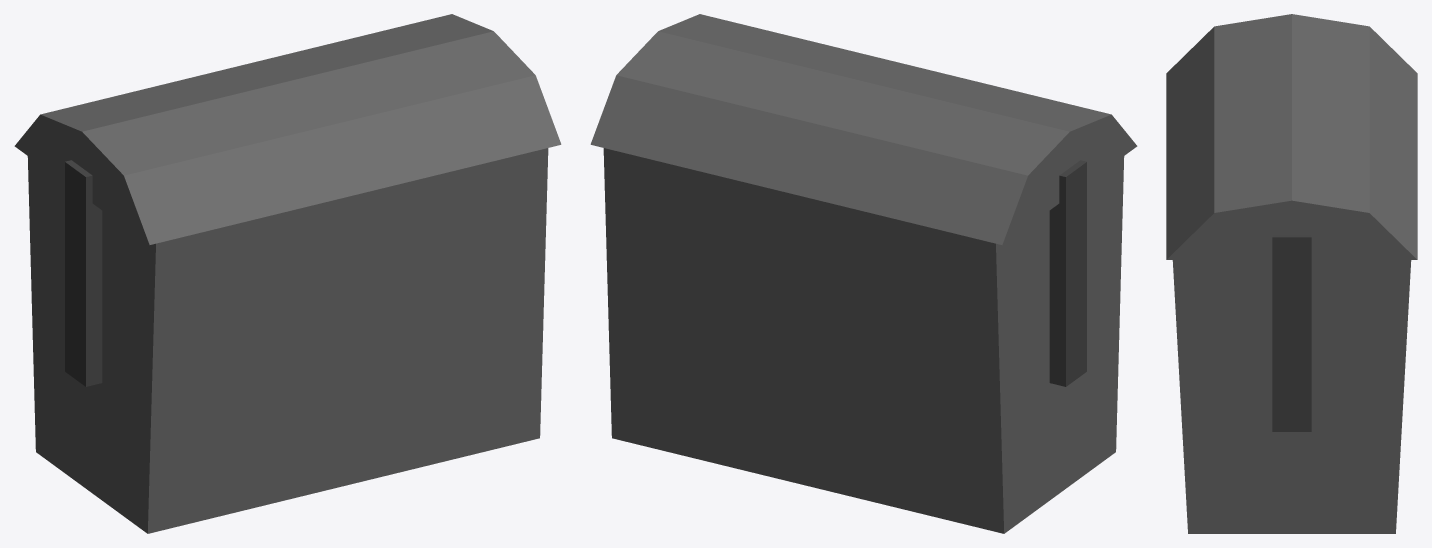
File: trash_004.fbx
The picture shows the model from 3 angles, left to right: view 1: azimuth 30°, elevation 25°; view 2: azimuth 150°, elevation 25°; view 3: azimuth 270°, elevation 25°; orthographic projection. The views are drawn at different scales.
Visible parts, largest first — view 1: trash_004; view 2: trash_004; view 3: trash_004.
Part boxes in pixels (box(x1,y1,x2,y2)): trash_004: box(14, 14, 561, 533); trash_004: box(590, 14, 1137, 533); trash_004: box(1166, 14, 1417, 533).
Size of the model in its own units: 151 by 123 by 83.13.
